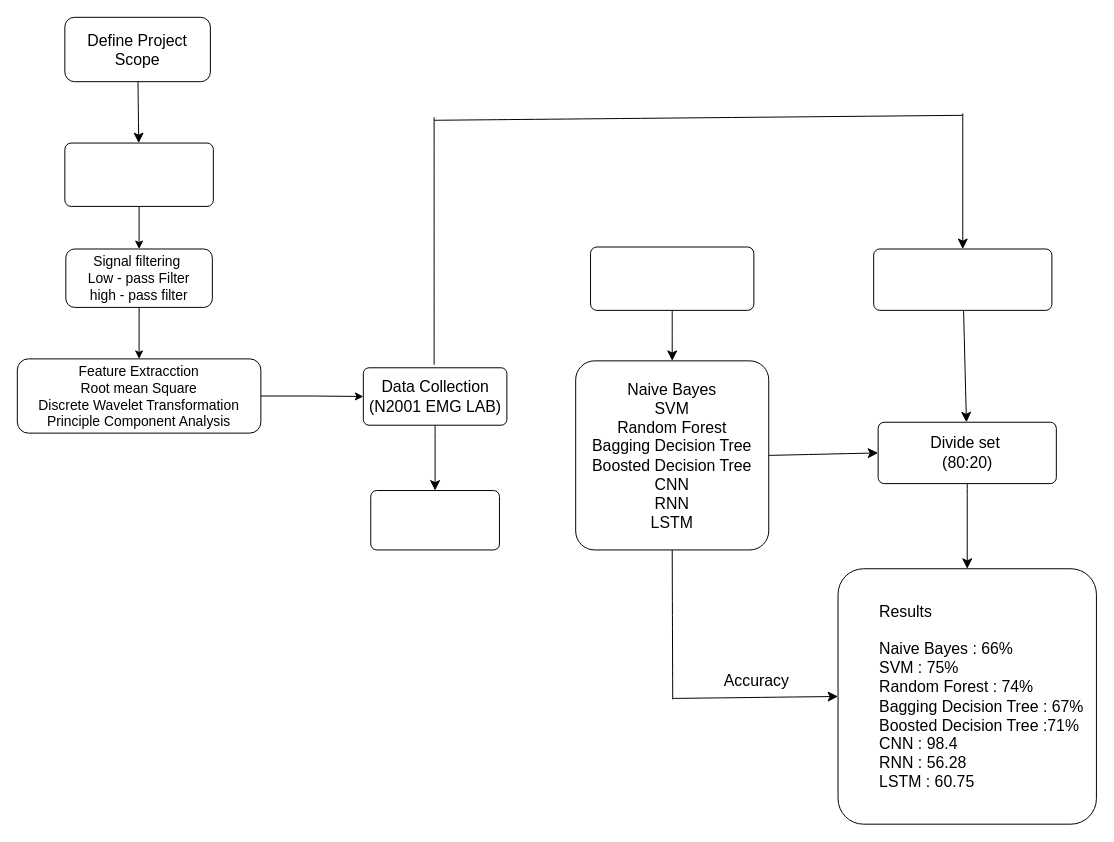
Some shapes in this 1114 by 842 pixel diagram are drawn without their labels. Here are the shapes that lost their labels. From the top down, the centre of each, then its label:
At point 138,174: "Signal Acquisition and Recording".
At point 672,278: "Models".
At point 962,279: "Training And Testing".
At point 434,520: "Normal Mypopathy ALS".
